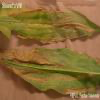Corn leaf blight: (1, 47, 98, 93), (1, 7, 99, 43)
